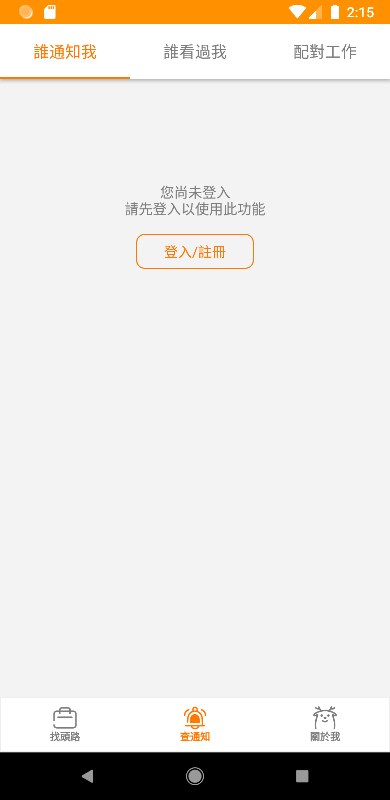button: (133, 227, 261, 280), (43, 703, 88, 745), (175, 701, 216, 745), (306, 703, 346, 745)
